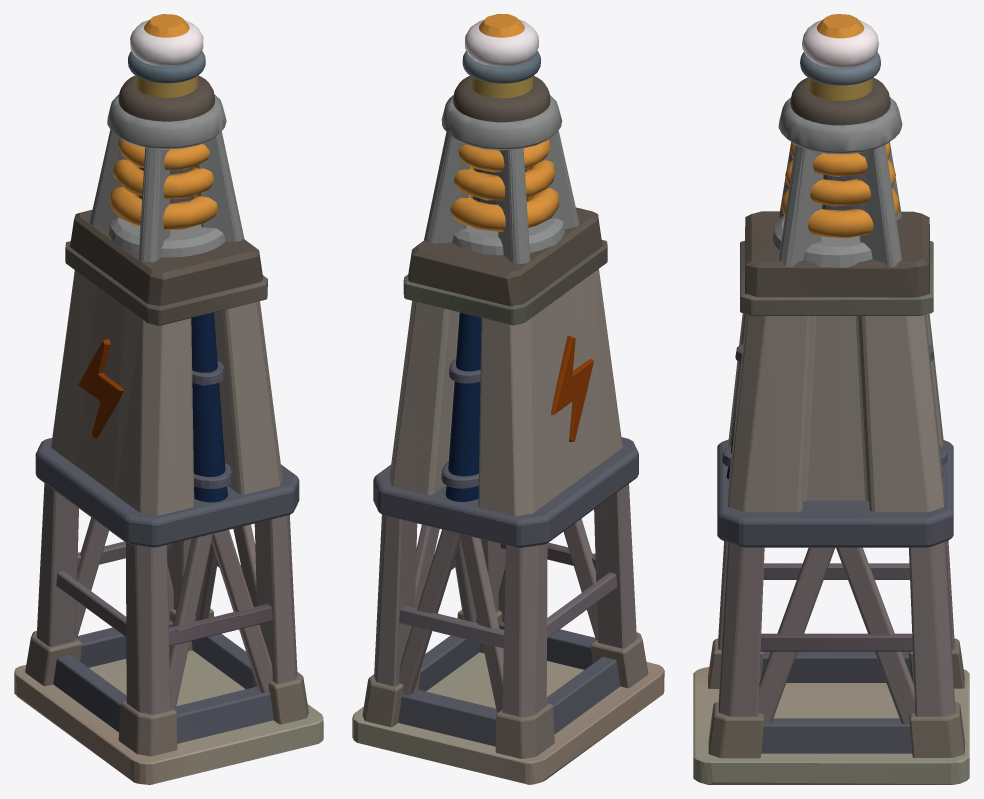
Rendered from dianwangta01.FBX.
The picture shows the model from 3 angles, left to right: view 1: azimuth 30°, elevation 25°; view 2: azimuth 150°, elevation 25°; view 3: azimuth 270°, elevation 25°; orthographic projection. The views are drawn at different scales.
Parts seen in each view (by area): view 1: Group56029; view 2: Group56029; view 3: Group56029.
Boxes of the visible parts, bbox=[...] form: Group56029: bbox=[14, 14, 323, 784]; Group56029: bbox=[352, 14, 664, 784]; Group56029: bbox=[693, 14, 969, 784].
Size of the model in its own units: 319 by 1109 by 387.
